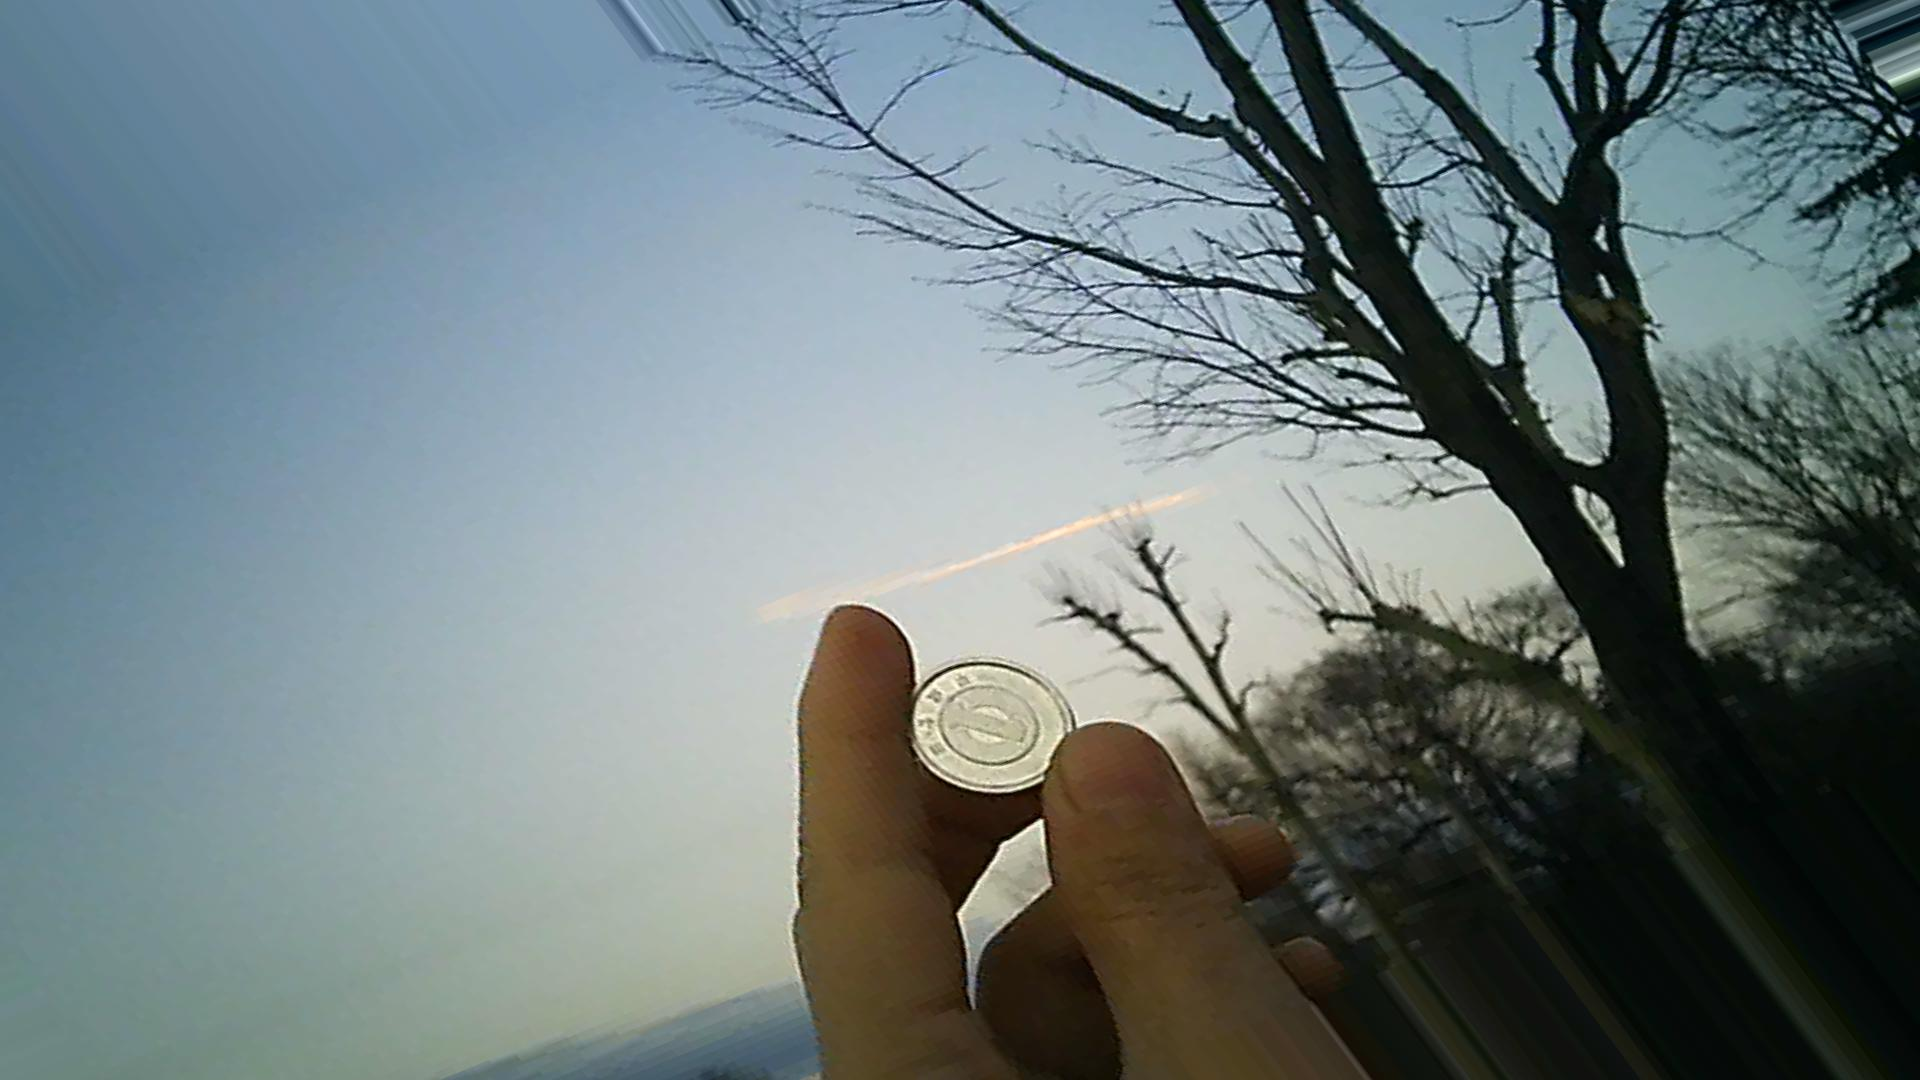1 Yen: (898, 646, 1088, 798)
